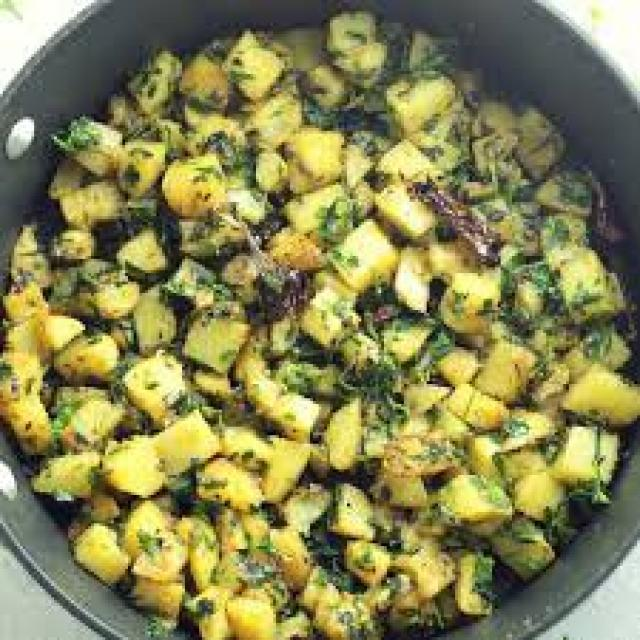Aloo Methi: (7, 9, 639, 640)
